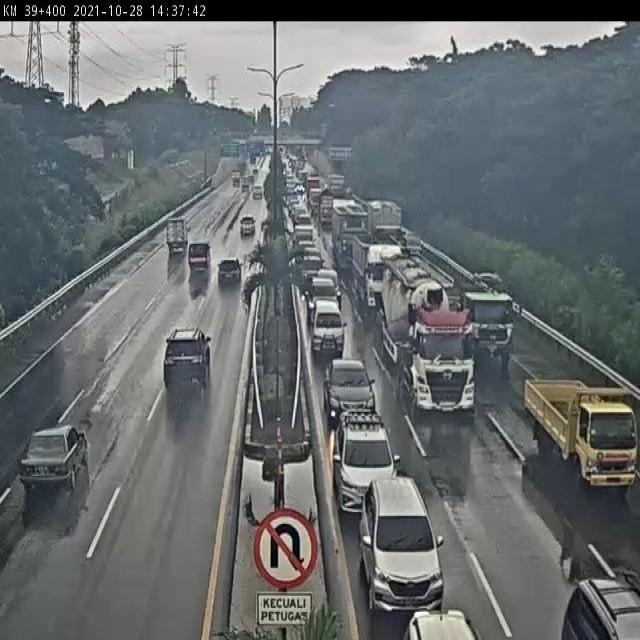Car: (361, 473, 442, 616), (334, 414, 395, 512), (558, 571, 640, 639), (19, 424, 88, 493), (324, 356, 375, 427), (162, 324, 213, 392), (310, 303, 344, 357), (308, 273, 340, 321), (294, 254, 324, 294), (292, 224, 314, 254), (472, 272, 504, 292), (217, 258, 241, 284), (188, 241, 210, 269), (404, 233, 422, 256), (240, 217, 255, 236), (253, 186, 263, 199), (232, 175, 240, 187), (242, 182, 250, 192)
Truck: (375, 252, 476, 421), (527, 370, 640, 494), (462, 280, 516, 370), (346, 231, 399, 306), (165, 217, 188, 255)
